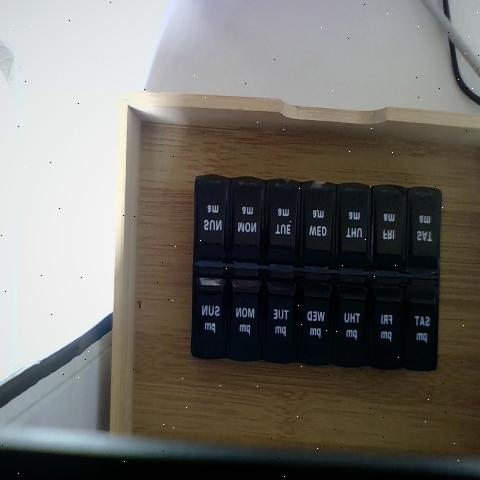FRI-am: (370, 184, 404, 271)
FRI-pm: (369, 281, 403, 365)
MON-am: (226, 179, 263, 261)
MON-pm: (224, 273, 263, 359)
SAT-am: (405, 186, 440, 274)
SAT-pm: (404, 283, 438, 366)
SUN-am: (195, 176, 228, 262)
SUN-pm: (192, 270, 226, 357)
THU-am: (334, 183, 369, 272)
THU-pm: (333, 279, 366, 362)
TUE-am: (265, 180, 298, 259)
TUE-pm: (261, 277, 299, 361)
WED-am: (299, 183, 334, 269)
WED-pm: (298, 277, 332, 361)
